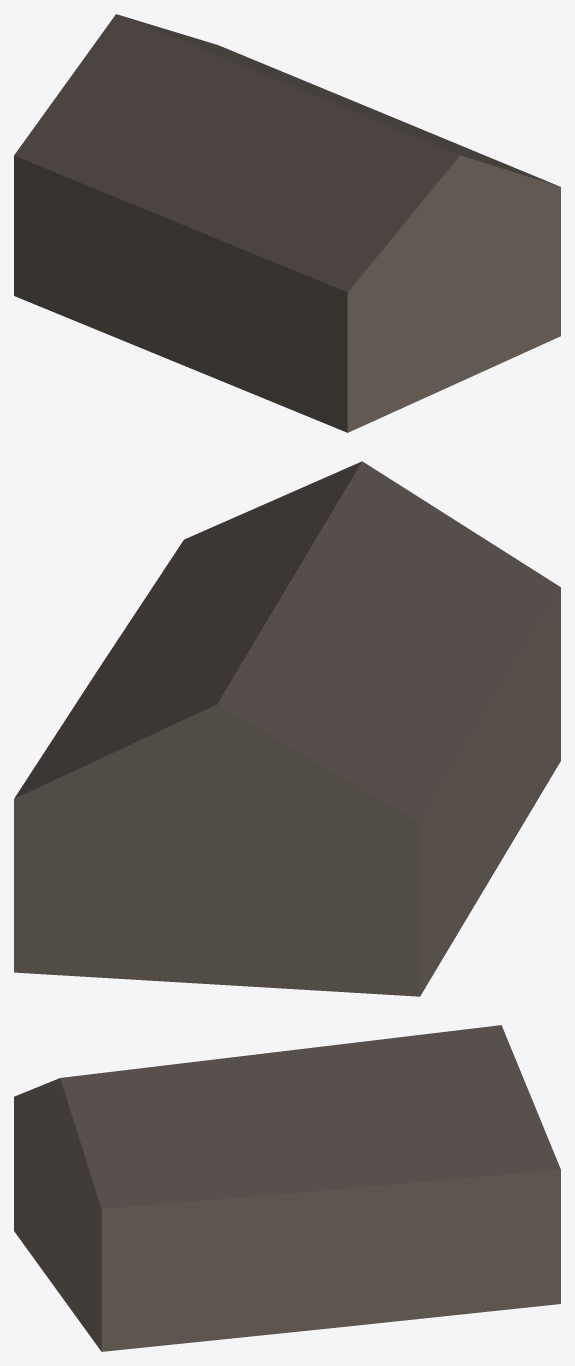
3 views of the same model, one above another, from view 1: azimuth 30°, elevation 25°; view 2: azimuth 150°, elevation 25°; view 3: azimuth 270°, elevation 25° (orthographic). The views are drawn at different scales.
Visible parts, largest first — view 1: HP-w373833607; view 2: HP-w373833607; view 3: HP-w373833607.
Part boxes in pixels (x1,y1,x2,y2): HP-w373833607: (14, 14, 560, 432); HP-w373833607: (14, 461, 560, 996); HP-w373833607: (14, 1025, 560, 1351).
Size of the model in its own units: 16.5 by 9.69 by 22.15.
